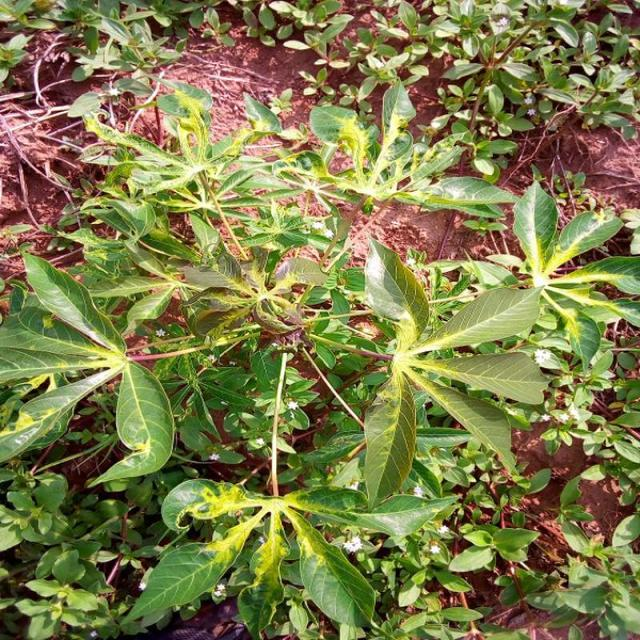cassava leaf: (362, 234, 430, 341)
